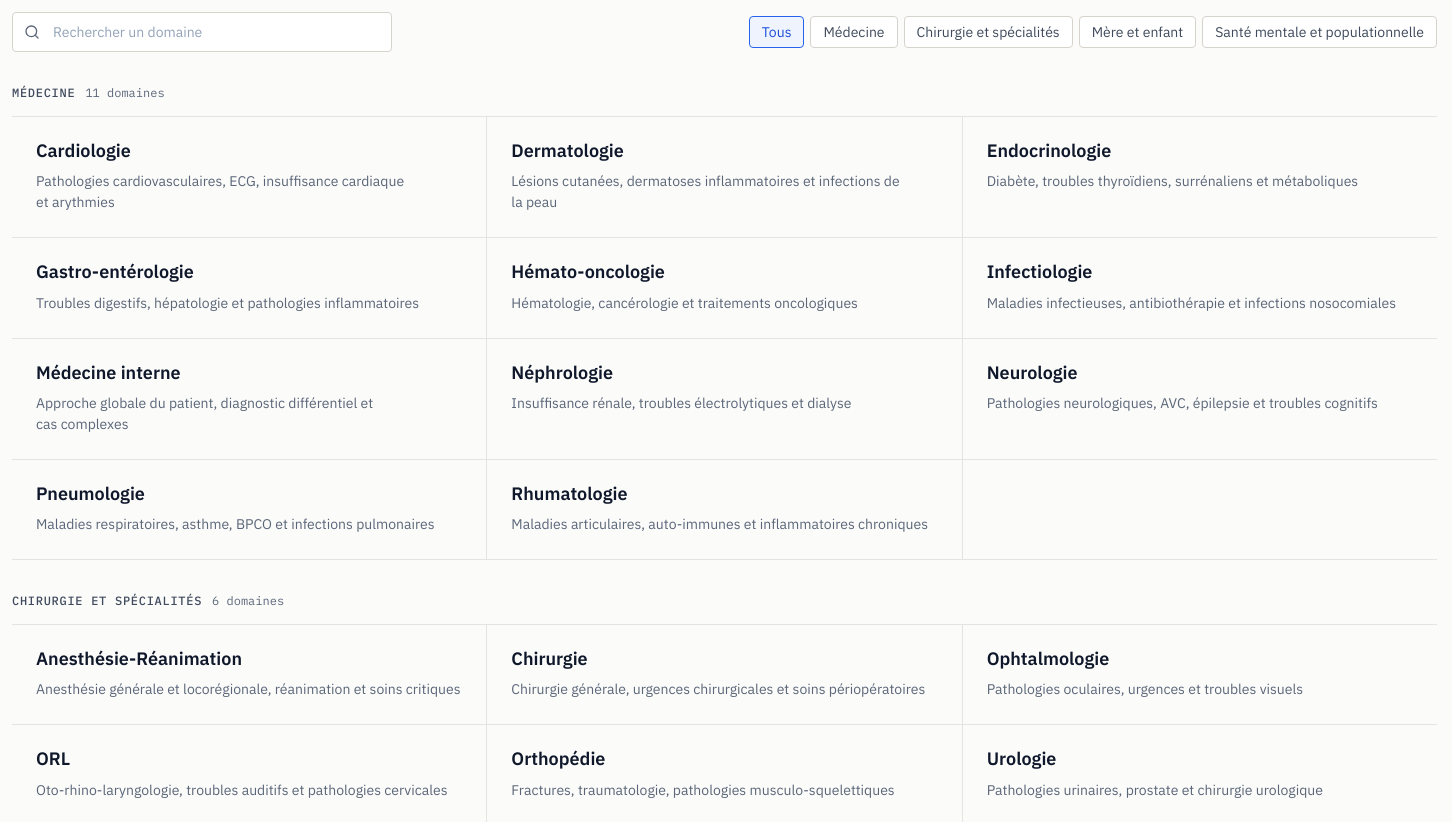
Test case: DomainsBrowser › une pastille de groupe ne garde que ce groupe
Click the button "Mère et enfant": [1137, 32] box x1=1079 y1=16 x2=1196 y2=48
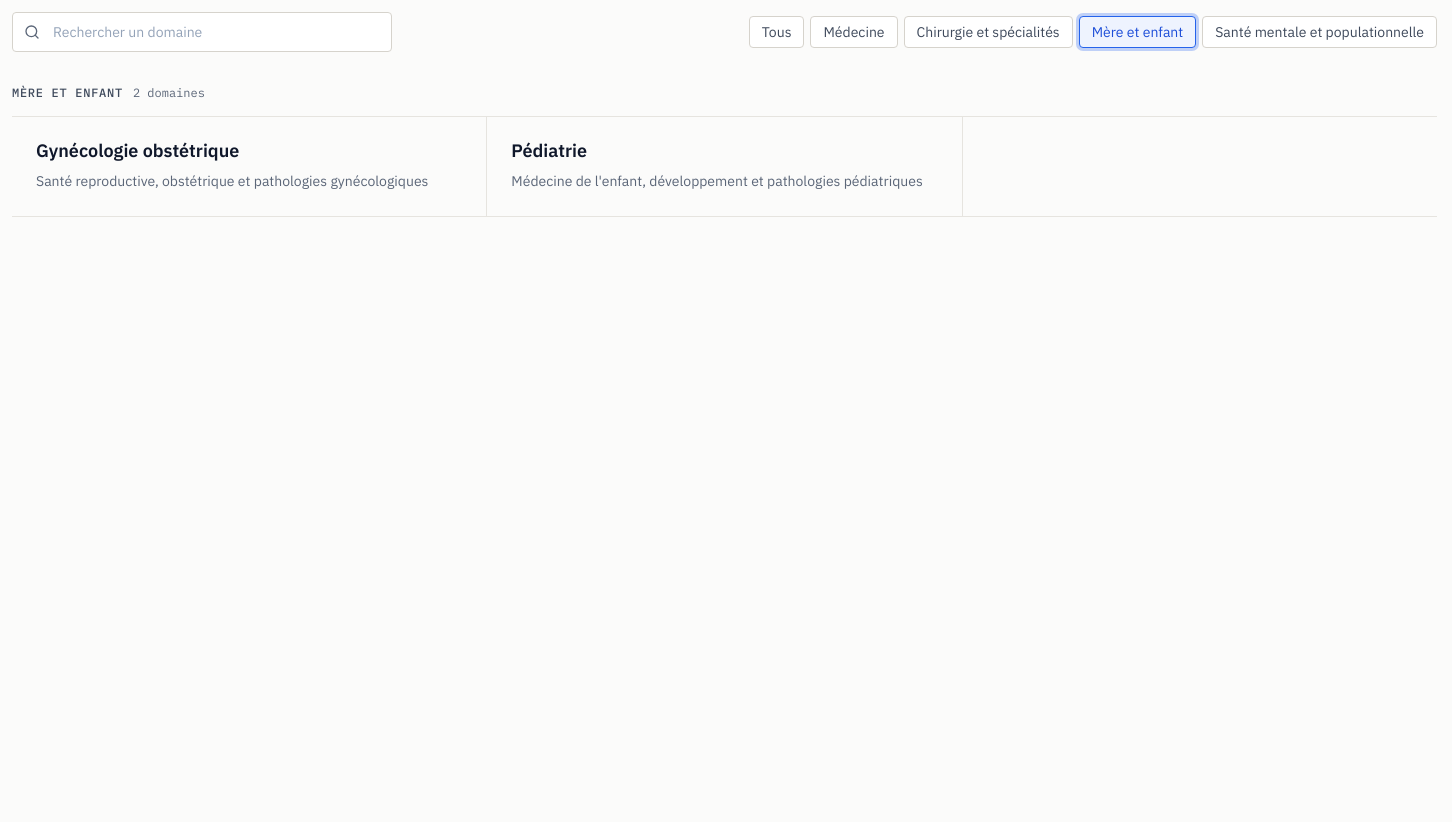
Result: the number of links is 2 at x1=36 y1=139 x2=428 y2=190; x1=511 y1=139 x2=923 y2=190
